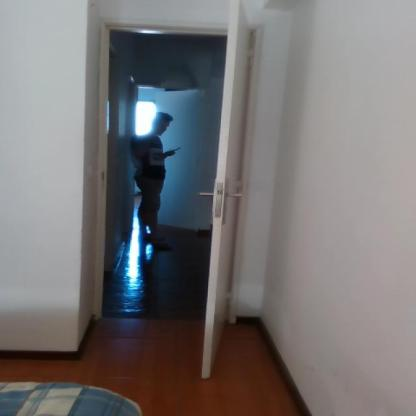door: (83, 10, 267, 383)
